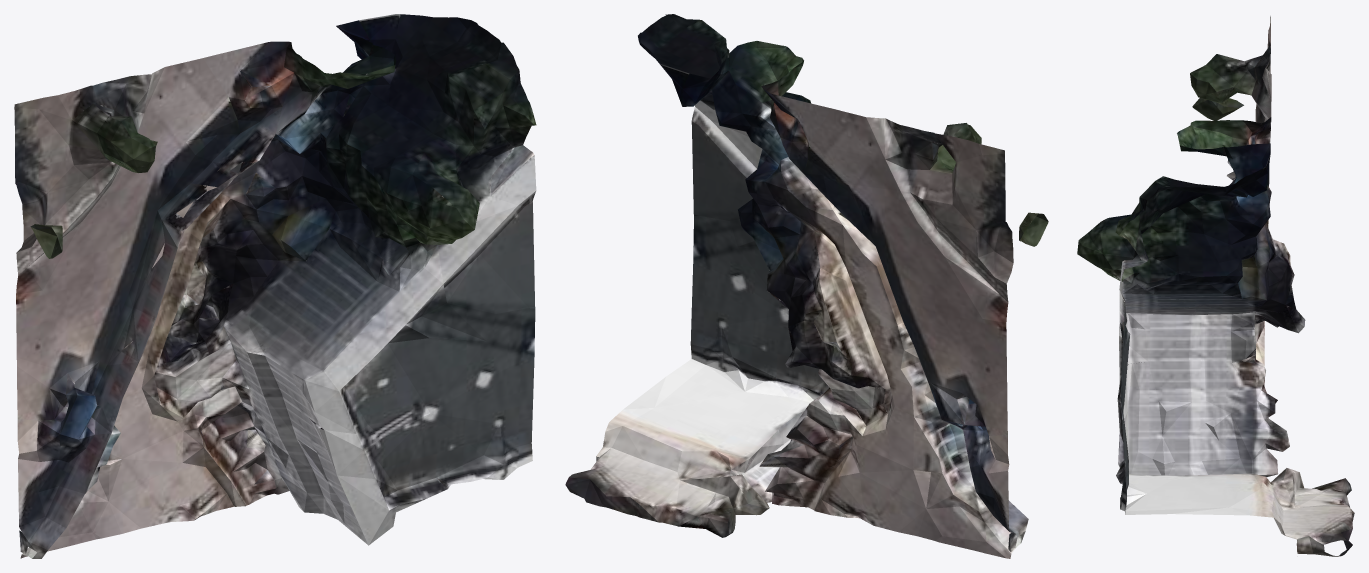
File: Tile_+032_+021_L19_000121.obj
3 views of the same model, side by side, from view 1: azimuth 30°, elevation 25°; view 2: azimuth 150°, elevation 25°; view 3: azimuth 270°, elevation 25° (orthographic). The views are drawn at different scales.
Bounding box in the file's own units: 31.75 × 31.75 × 21.49.
1 material, 1 textured.
